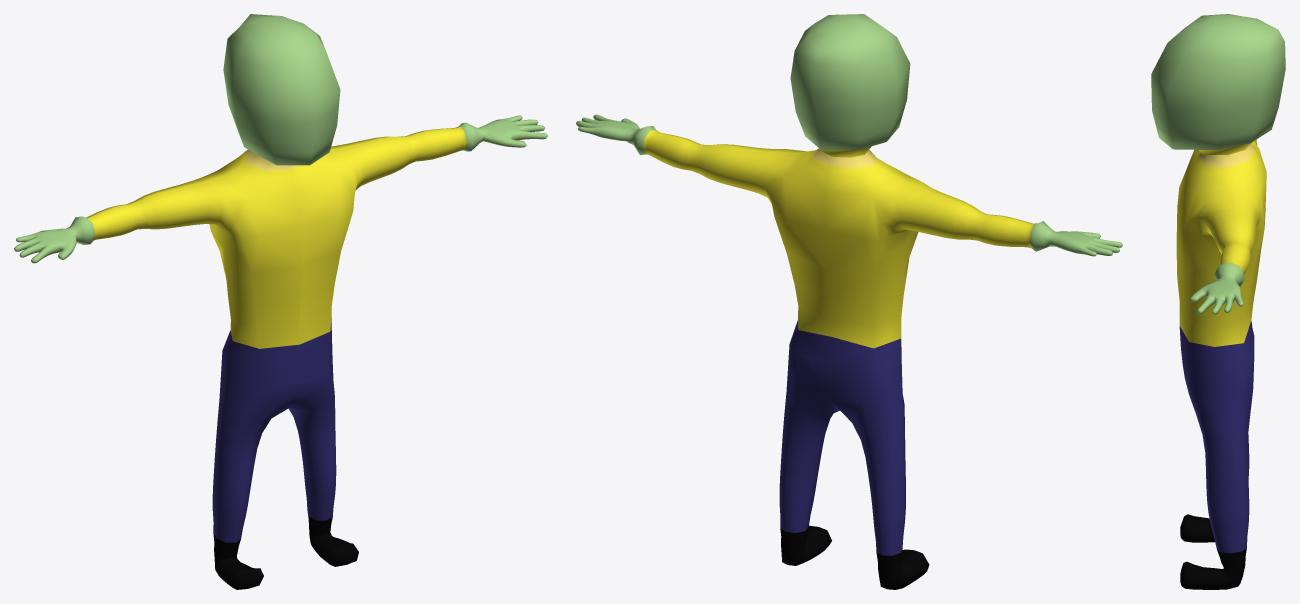
The model's file is Guest1.fbx.
3 renders of one model, left to right at view 1: azimuth 30°, elevation 25°; view 2: azimuth 150°, elevation 25°; view 3: azimuth 270°, elevation 25°, orthographic. The views are drawn at different scales.
Parts seen in each view (by area): view 1: Guest1; view 2: Guest1; view 3: Guest1.
Part boxes in pixels (x1,y1,x2,y2): Guest1: (14,14,547,589); Guest1: (576,14,1122,589); Guest1: (1151,14,1285,589).
Size of the model in its own units: 177 by 173 by 39.11.
